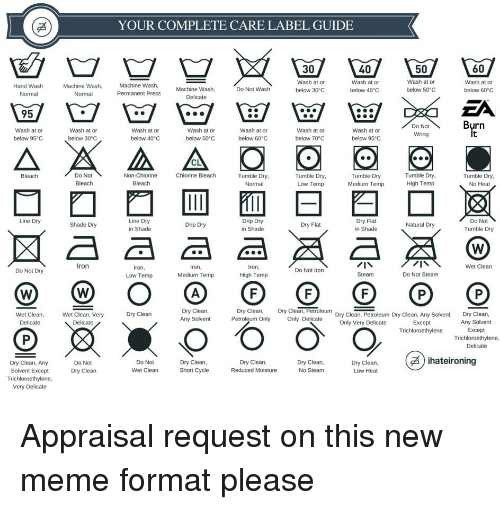do_not_bleach: (65, 144, 104, 174)
do_not_dry_clean: (62, 326, 102, 358)
do_not_iron: (284, 235, 335, 267)
do_not_wash: (231, 46, 276, 85)
